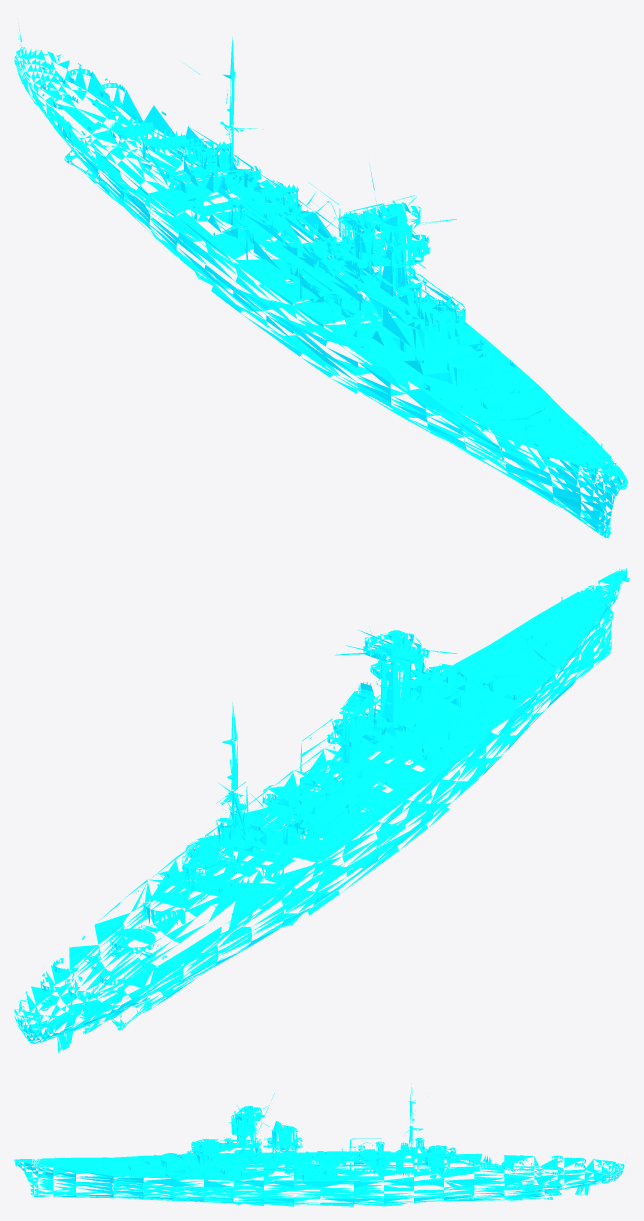
The model's file is Clausewitz.glb.
3 views of the same model, one above another, from view 1: azimuth 30°, elevation 25°; view 2: azimuth 150°, elevation 25°; view 3: azimuth 270°, elevation 25° (orthographic). The views are drawn at different scales.
Bounding box in the file's own units: 1.71 × 3.21 × 15.47.
